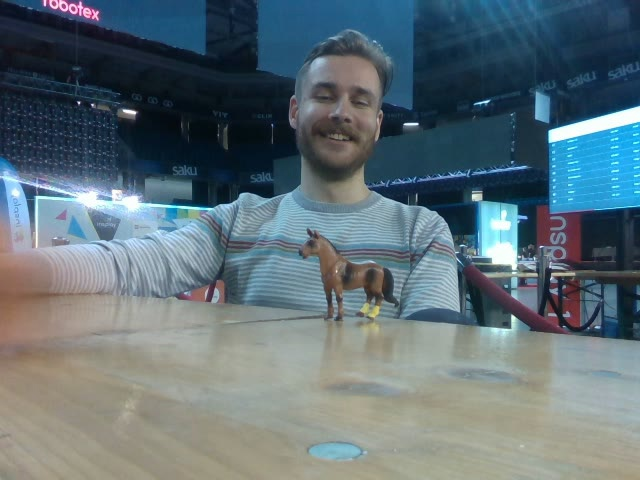toy: (294, 227, 402, 326)
